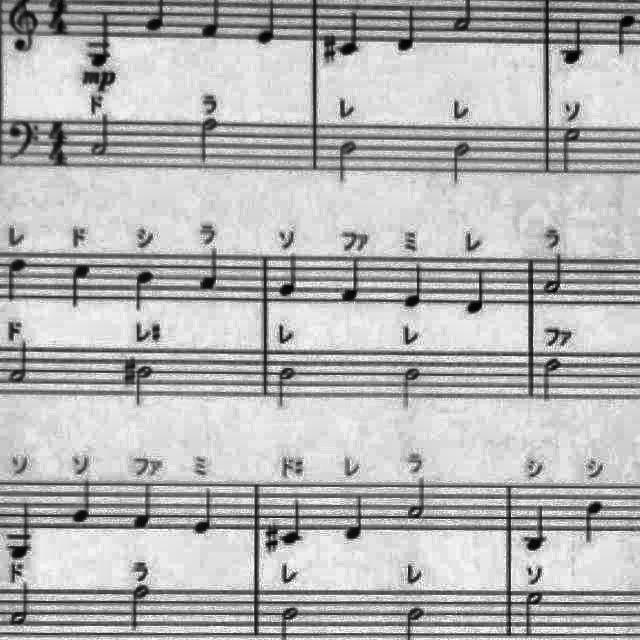Bass-clef: (1, 116, 41, 168)
Diez: (320, 32, 338, 66), (266, 519, 282, 557), (122, 354, 140, 386)
Half-note: (557, 122, 587, 178), (518, 588, 550, 640), (194, 112, 223, 168), (334, 136, 364, 187), (400, 362, 428, 413), (273, 363, 301, 413), (6, 580, 34, 630), (6, 337, 34, 387), (539, 355, 567, 405), (127, 582, 153, 634), (88, 109, 115, 159), (406, 474, 432, 524), (541, 250, 567, 298), (450, 138, 474, 190), (132, 362, 156, 410)
Quarter-note: (83, 5, 121, 71), (4, 498, 40, 562), (520, 500, 552, 556), (64, 258, 96, 312), (558, 15, 588, 70), (68, 474, 98, 528), (2, 253, 32, 307), (392, 2, 420, 56), (400, 258, 428, 312), (337, 6, 365, 59), (129, 481, 157, 534), (278, 496, 306, 548), (462, 264, 490, 316), (276, 250, 304, 302), (343, 490, 369, 546), (192, 484, 218, 540), (338, 254, 366, 306), (581, 497, 609, 548), (612, 10, 640, 60), (130, 265, 158, 315), (198, 246, 226, 296), (252, 0, 280, 48)
